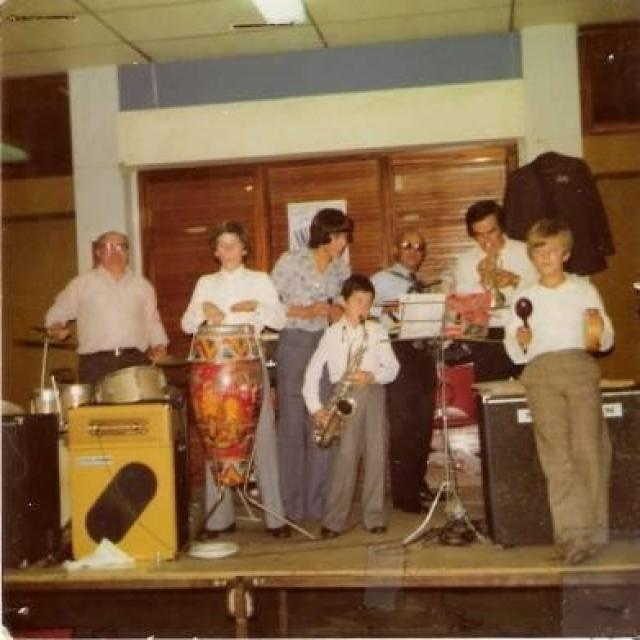saxophone: (310, 312, 373, 453)
